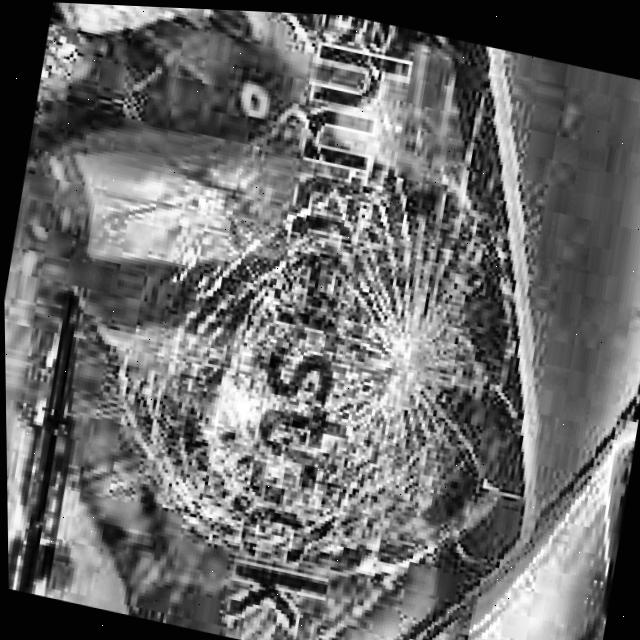glass_shatter: (173, 206, 489, 571)
